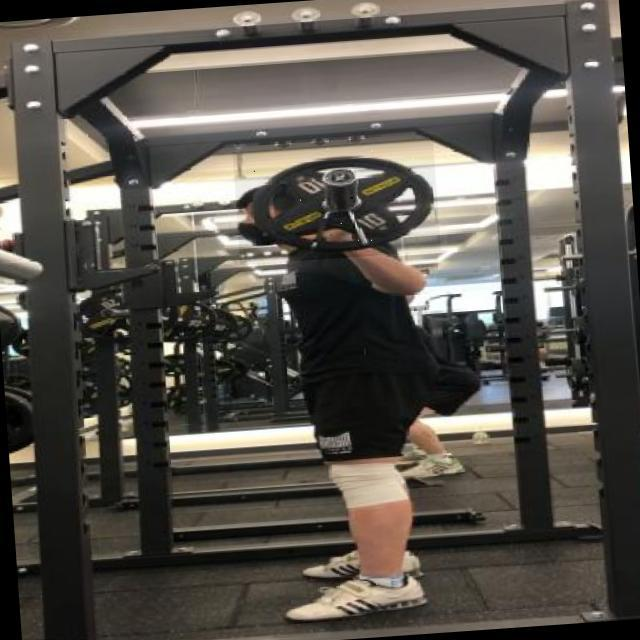barbell: (233, 139, 441, 266)
